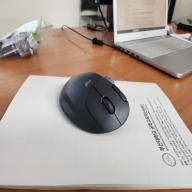mouse: (57, 70, 132, 135)
